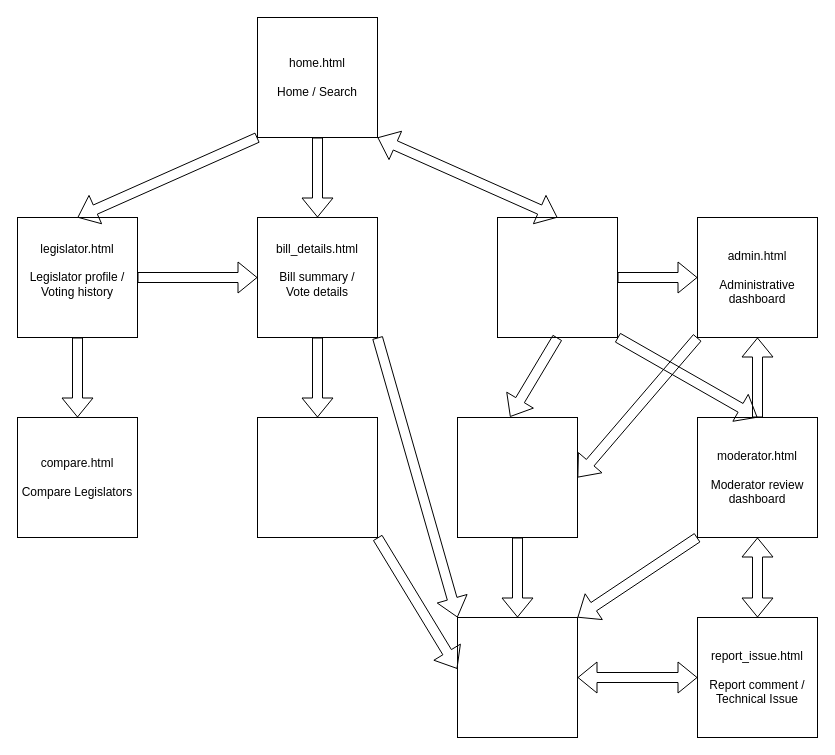
The diagram is 835 pixels wide and 755 high, and some of its shapes have lost their labels. The centre of each missing label's shape, as x and y in pixels:
"access.html Login / Registration" goes at (x=557, y=277).
"discussion.html Report comment / Technical Issue" goes at (x=517, y=677).
"profile.html Member profile" goes at (x=517, y=477).
"submit_source.html submit supporting source" goes at (x=317, y=477).
